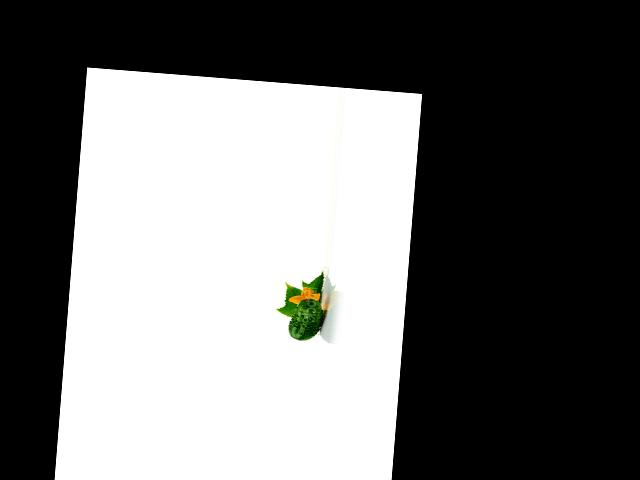cucumber: (287, 298, 324, 342)
